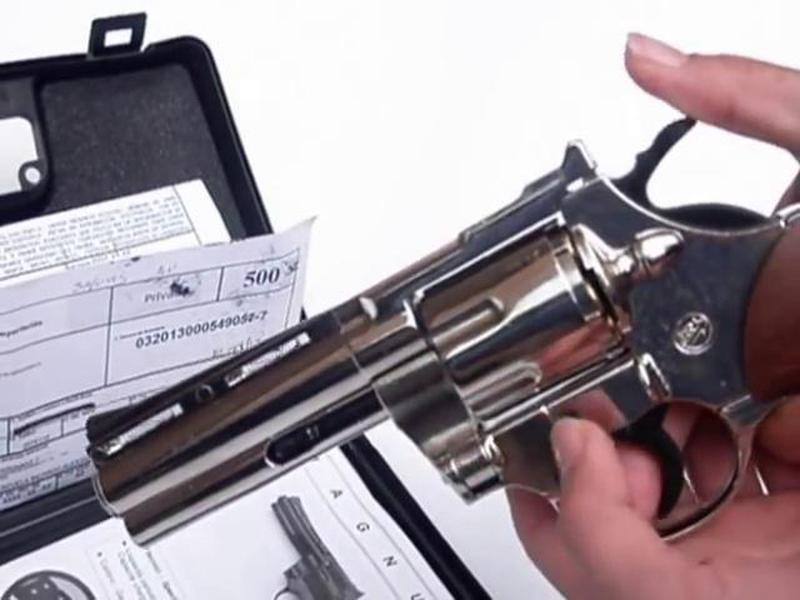Revolver: (80, 125, 799, 544)
